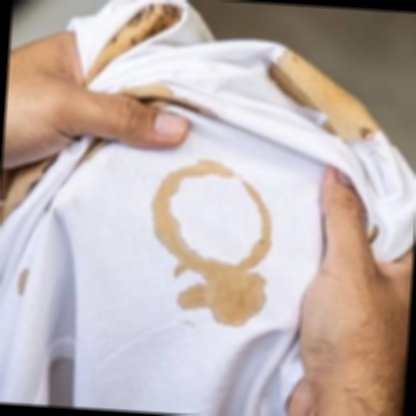coffee: (193, 260, 268, 327), (151, 177, 178, 241), (245, 232, 273, 266), (178, 164, 223, 177), (175, 244, 196, 270)
